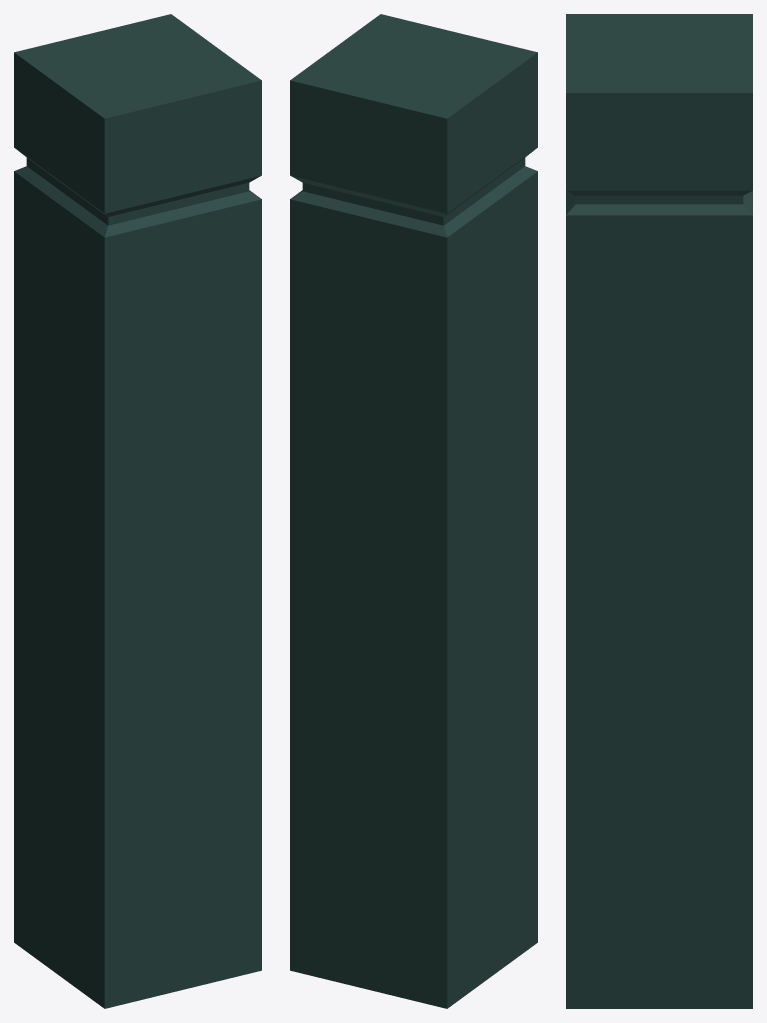
The model's file is gebouw2.fbx.
3 renders of one model, left to right at view 1: azimuth 30°, elevation 25°; view 2: azimuth 150°, elevation 25°; view 3: azimuth 270°, elevation 25°, orthographic. The views are drawn at different scales.
Parts seen in each view (by area): view 1: polySurface30; view 2: polySurface30; view 3: polySurface30.
Boxes of the visible parts, <box> form: polySurface30: <box>14,14,261,1008</box>; polySurface30: <box>290,14,537,1008</box>; polySurface30: <box>566,14,752,1008</box>.
Bounding box in the file's own units: 4.75 × 25.72 × 4.75.
